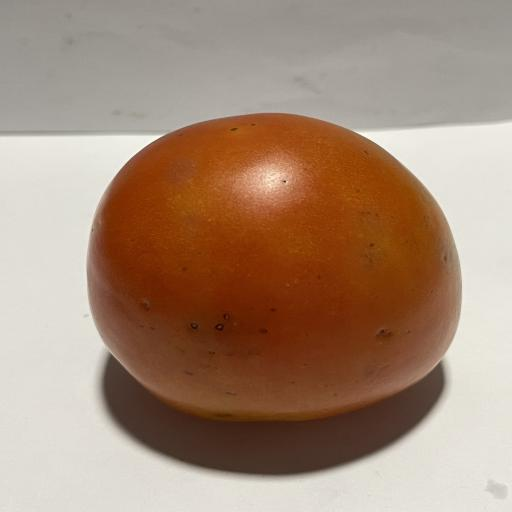unripe: (87, 114, 461, 421)
